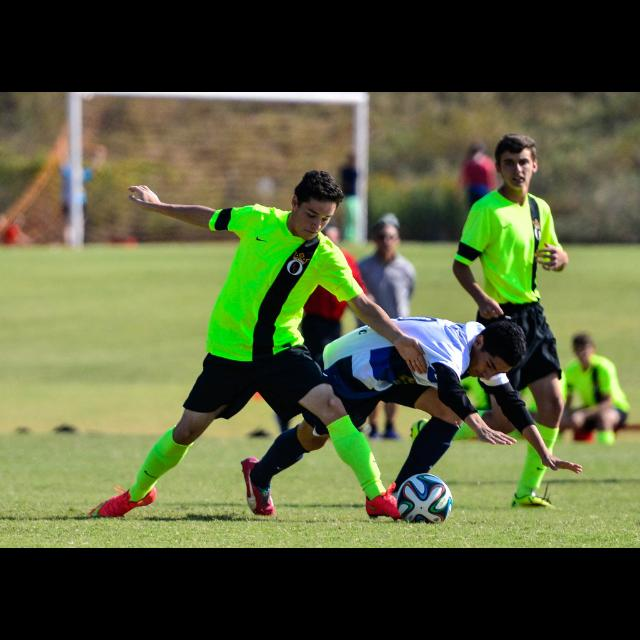Football: (396, 472, 452, 526)
